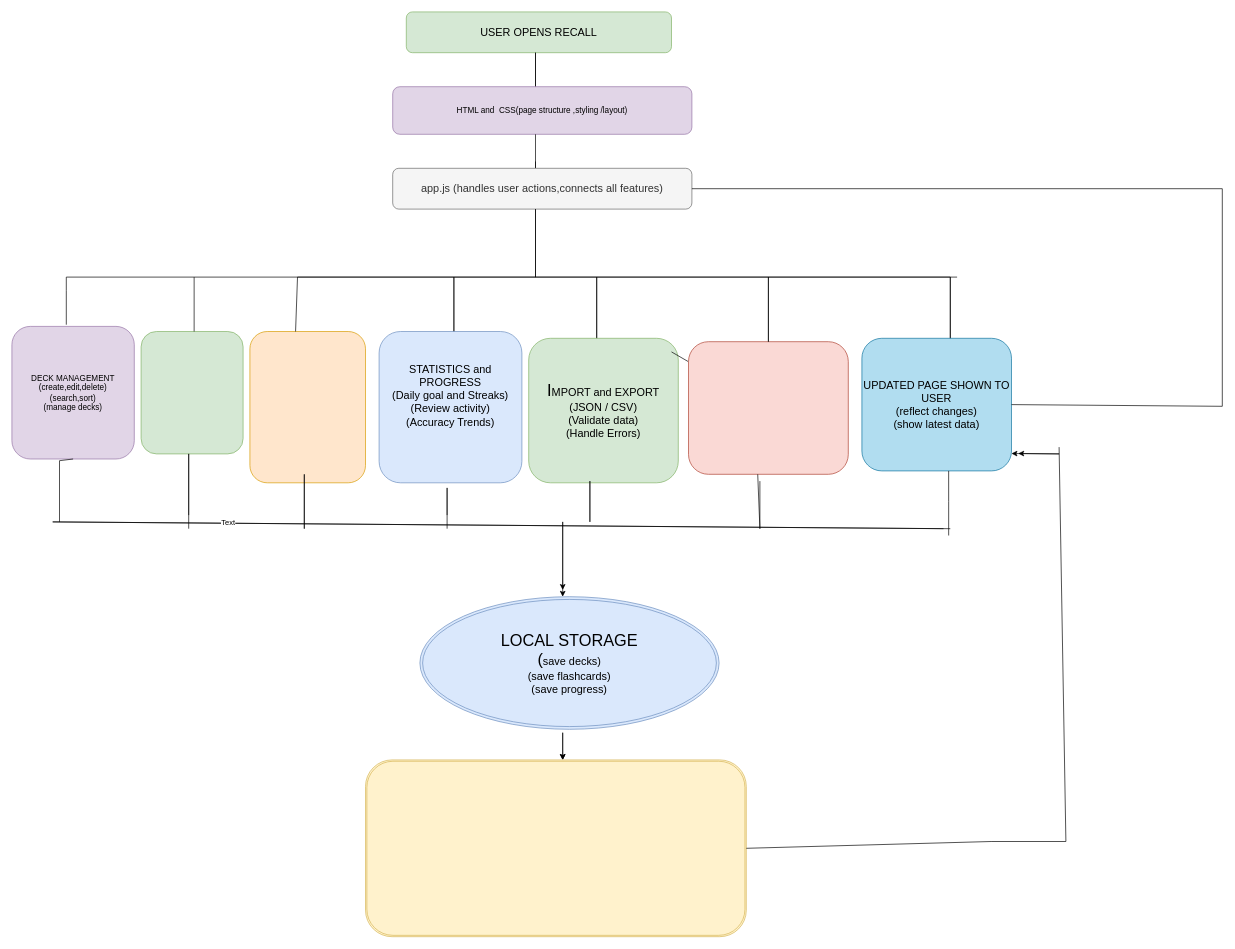
Image size: 1235x949. Some labels were removed from this diagram. The shapes that lost their labels are listed below. From the top down, each one's centre as x and y in pixels, then its label:
At (191,392): "FLASHCARD MANAGEMENT (add,edit,delete) (filter,search) (manage tags)".
At (307,407): "STUDY SCHEDULER (next review date) (spaced repetition) (mark as known/review)".
At (768,407): "MOCK SERVER SYNC (simulate sync) (show status) (handle retry)".
At (555,848): "SAVED DECKS,FLASHCARDS ,PROGRESS".
